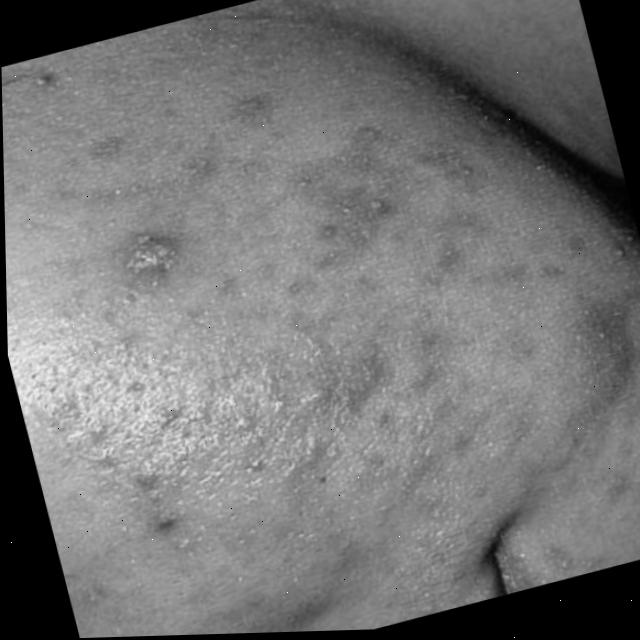Rosacea: (1, 5, 640, 640)
